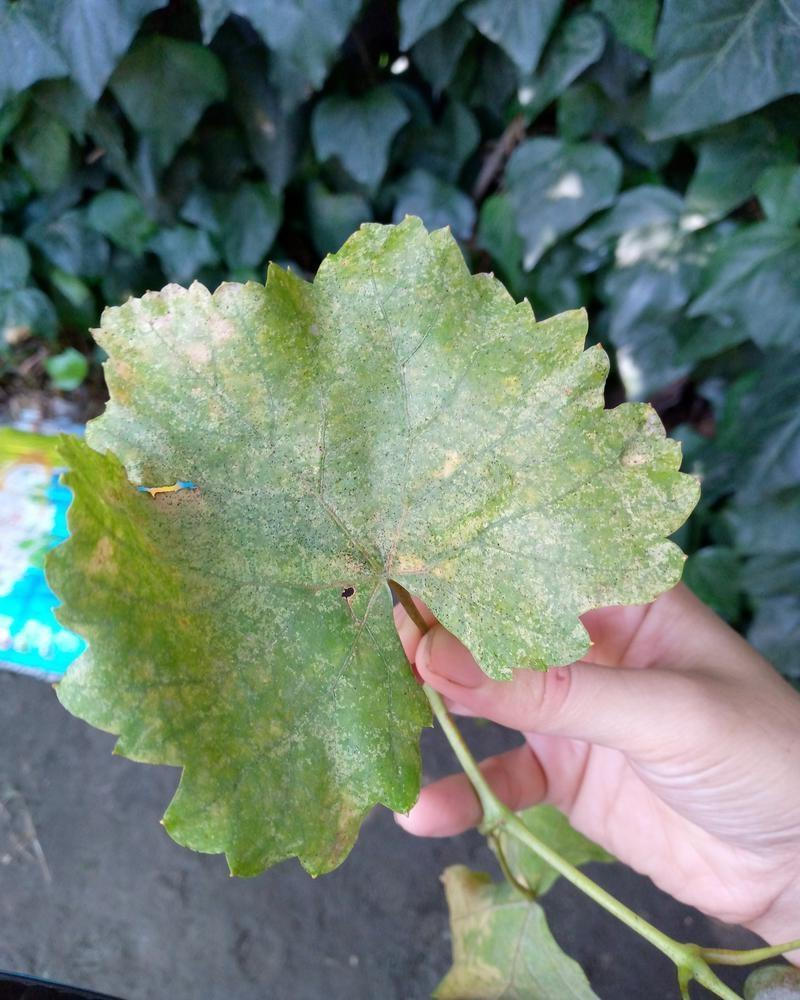Powdery-Mildew: (103, 304, 284, 443), (320, 519, 467, 628), (424, 424, 487, 487), (61, 514, 124, 577), (307, 795, 370, 858)
